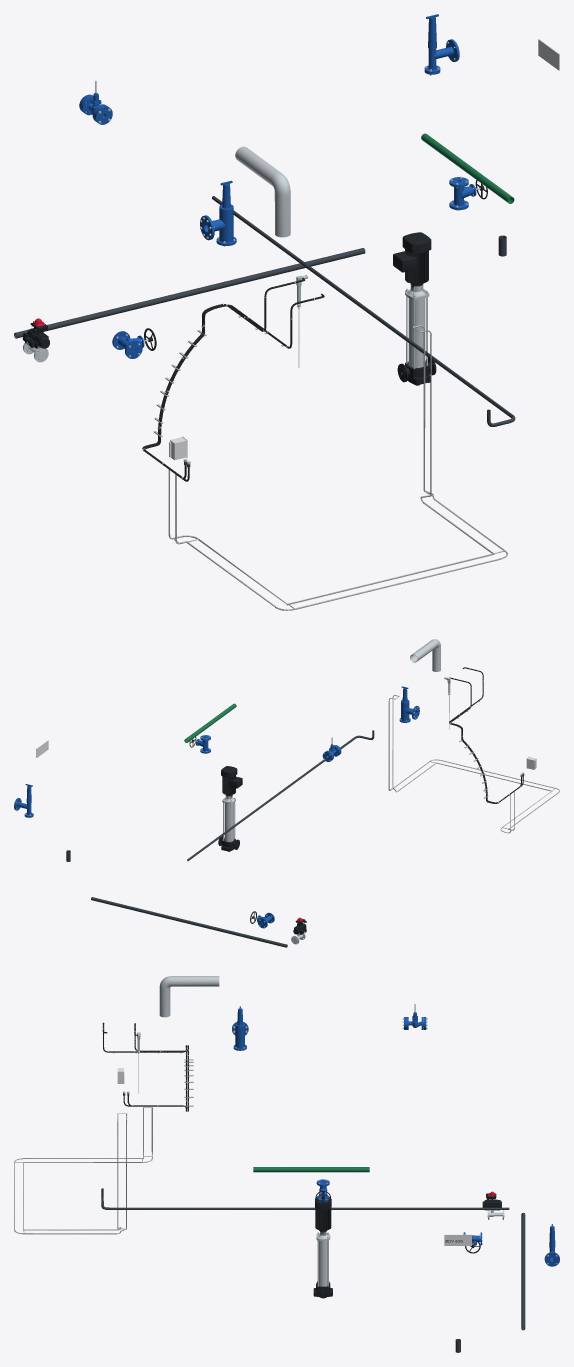
The picture shows the model from 3 angles, top to bottom: view 1: azimuth 30°, elevation 25°; view 2: azimuth 150°, elevation 25°; view 3: azimuth 270°, elevation 25°; orthographic projection. The views are drawn at different scales.
Parts seen in each view (by area): view 1: cables / zinc, bottom_discharge / dark, steam_rise / steel, tds_common / dark, pump_2 CAD solid 15, safety_2 / blue, pump_2 CAD solid 2, wiring_low_level_1 / black, flash_steam_common / blue, pump_delivery / green, bcv7432 / bcv7432_0.npz, wiring_lp400 / black (+1 smaller); view 2: cables / zinc, bottom_discharge / dark, tds_common / dark, steam_rise / steel, pump_2 CAD solid 15, safety_2 / blue; view 3: cables / zinc, tds_common / dark, steam_rise / steel, pump_delivery / green, bottom_discharge / dark, pump_2 CAD solid 15.
Part boxes in pixels (bbox=[...]): cables / zinc: bbox=[168, 325, 507, 610]; bottom_discharge / dark: bbox=[14, 248, 365, 338]; steam_rise / steel: bbox=[235, 146, 290, 237]; tds_common / dark: bbox=[212, 196, 515, 426]; pump_2 CAD solid 15: bbox=[393, 232, 431, 284]; safety_2 / blue: bbox=[200, 180, 236, 245]; pump_2 CAD solid 2: bbox=[408, 298, 425, 367]; wiring_low_level_1 / black: bbox=[144, 293, 324, 481]; flash_steam_common / blue: bbox=[424, 14, 459, 74]; pump_delivery / green: bbox=[421, 133, 514, 203]; bcv7432 / bcv7432_0.npz: bbox=[22, 318, 49, 362]; wiring_lp400 / black: bbox=[142, 278, 304, 478]; cables / zinc: bbox=[388, 695, 559, 833]; bottom_discharge / dark: bbox=[91, 897, 287, 947]; tds_common / dark: bbox=[187, 730, 374, 860]; steam_rise / steel: bbox=[410, 639, 440, 671]; pump_2 CAD solid 15: bbox=[221, 766, 242, 795]; safety_2 / blue: bbox=[399, 686, 419, 722]; cables / zinc: bbox=[14, 1107, 152, 1234]; tds_common / dark: bbox=[101, 1188, 509, 1209]; steam_rise / steel: bbox=[159, 976, 219, 1017]; pump_delivery / green: bbox=[253, 1167, 369, 1172]; bottom_discharge / dark: bbox=[521, 1212, 525, 1330]; pump_2 CAD solid 15: bbox=[315, 1197, 331, 1231].
Size of the model in its own units: 5.25 by 2.91 by 5.87.
